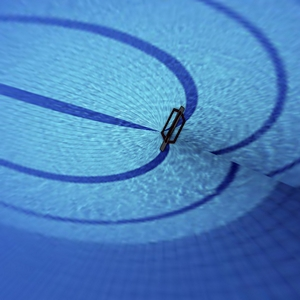submarine: (151, 86, 193, 162)
